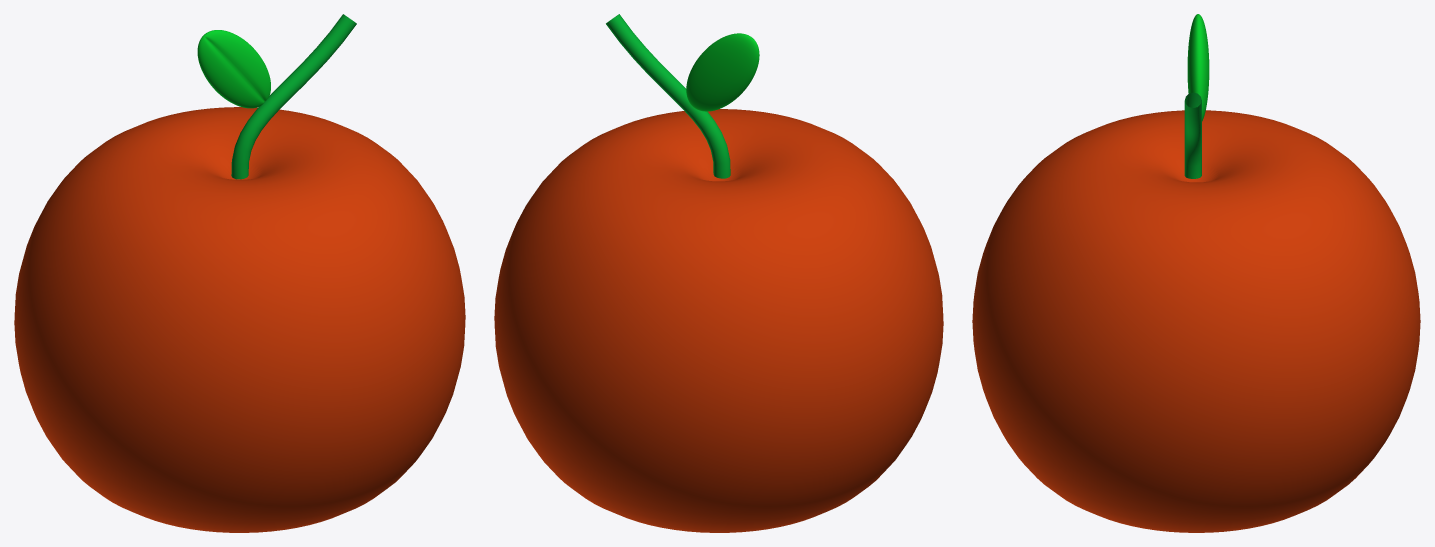
The model's file is points.fbx.
The picture shows the model from 3 angles, left to right: view 1: azimuth 30°, elevation 25°; view 2: azimuth 150°, elevation 25°; view 3: azimuth 270°, elevation 25°; orthographic projection.
Visible parts, largest first — view 1: Peach, Leaf, steam; view 2: Peach, Leaf, steam; view 3: Peach, Leaf, steam.
Boxes of the visible parts, bbox=[...] form: Peach: bbox=[14, 107, 465, 532]; Leaf: bbox=[197, 30, 270, 108]; steam: bbox=[231, 14, 356, 179]; Peach: bbox=[494, 109, 943, 532]; Leaf: bbox=[686, 33, 759, 111]; steam: bbox=[606, 14, 730, 178]; Peach: bbox=[972, 110, 1420, 532]; Leaf: bbox=[1187, 14, 1209, 121]; steam: bbox=[1184, 92, 1201, 178].
Size of the model in its own units: 105 by 118 by 105.
